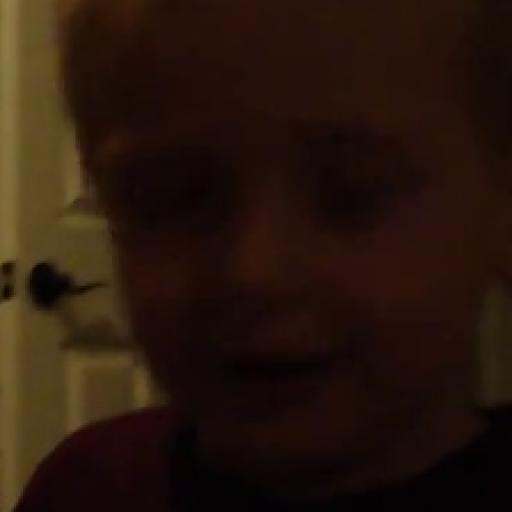Autism: (64, 0, 501, 489)
